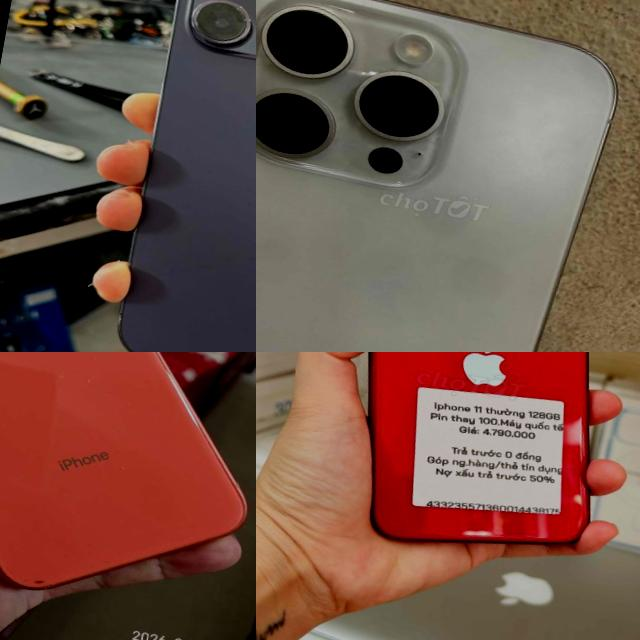scratch: (440, 502, 554, 550), (222, 0, 256, 36)
